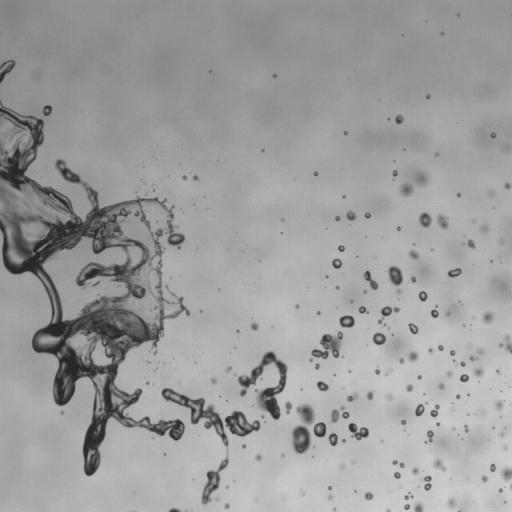droplet: (290, 403, 327, 454), (309, 331, 343, 361), (327, 405, 349, 423), (348, 422, 369, 440), (498, 334, 511, 354), (414, 170, 429, 187), (398, 182, 413, 197), (432, 457, 447, 472), (418, 211, 431, 228), (480, 310, 495, 324), (436, 213, 449, 229), (471, 366, 484, 382), (339, 315, 354, 328), (372, 332, 386, 345), (327, 431, 338, 446), (421, 475, 431, 491), (447, 267, 462, 277), (407, 350, 419, 362), (499, 425, 511, 437), (346, 391, 359, 402), (462, 239, 476, 249), (430, 403, 439, 418), (494, 399, 505, 411), (316, 381, 329, 391), (430, 304, 439, 318), (14, 104, 25, 115), (2, 119, 13, 130), (67, 161, 78, 172), (396, 173, 407, 184), (403, 173, 414, 184), (55, 181, 66, 192), (81, 201, 92, 212), (76, 208, 87, 219), (163, 243, 174, 254), (379, 274, 390, 285), (422, 299, 433, 310), (39, 315, 50, 326), (125, 347, 136, 358), (47, 354, 58, 365), (265, 362, 276, 373), (482, 367, 493, 378), (214, 368, 225, 379), (269, 369, 280, 380), (75, 376, 86, 387), (112, 376, 123, 387), (267, 376, 278, 387), (255, 378, 266, 389), (44, 381, 55, 392), (274, 392, 285, 403), (123, 405, 134, 416), (179, 408, 190, 419), (292, 415, 303, 426), (106, 416, 117, 427), (337, 418, 348, 429), (338, 427, 349, 438), (282, 433, 293, 444), (245, 445, 256, 456), (429, 467, 440, 478), (414, 490, 425, 501), (408, 322, 418, 334), (474, 407, 486, 417), (446, 496, 456, 508), (412, 501, 424, 511), (424, 430, 433, 443), (284, 400, 292, 414), (346, 210, 356, 221), (408, 250, 419, 260), (479, 223, 489, 233), (332, 258, 342, 268), (418, 290, 427, 301), (358, 305, 369, 314), (502, 390, 511, 401), (394, 114, 403, 124), (366, 390, 375, 400), (502, 143, 511, 152), (364, 491, 373, 500), (404, 491, 413, 500), (2, 99, 11, 108), (41, 125, 50, 134), (427, 177, 436, 186), (411, 183, 420, 192), (394, 191, 403, 200), (354, 210, 363, 219), (429, 218, 438, 227), (158, 235, 167, 244), (22, 269, 31, 278), (401, 271, 410, 280), (475, 308, 484, 317), (352, 311, 361, 320), (142, 339, 151, 348), (417, 348, 426, 357), (454, 352, 463, 361), (251, 357, 260, 366), (116, 363, 125, 372), (462, 365, 471, 374), (408, 376, 417, 385), (187, 390, 196, 399), (344, 401, 353, 410), (486, 403, 495, 412), (82, 417, 91, 426), (308, 433, 317, 442), (76, 434, 85, 443), (97, 442, 106, 451), (498, 478, 507, 487), (459, 374, 469, 382), (250, 321, 258, 330), (411, 466, 419, 475), (505, 431, 511, 442), (199, 505, 210, 511), (487, 189, 495, 197), (445, 370, 453, 378), (385, 392, 393, 400), (210, 376, 217, 385), (489, 463, 496, 472), (374, 365, 380, 375), (427, 347, 435, 354), (406, 384, 413, 392), (254, 453, 261, 461), (393, 471, 400, 479), (476, 348, 485, 354), (469, 355, 478, 361), (504, 182, 511, 189), (408, 276, 415, 283), (481, 475, 488, 482), (299, 489, 306, 496), (41, 115, 48, 122), (36, 144, 43, 151), (23, 169, 30, 176), (55, 172, 62, 179), (39, 180, 46, 187), (70, 181, 77, 188), (80, 189, 87, 196), (128, 193, 135, 200), (407, 193, 414, 200), (97, 201, 104, 208), (414, 209, 421, 216), (441, 209, 448, 216), (339, 212, 346, 219), (446, 218, 453, 225), (475, 219, 482, 226), (414, 221, 421, 228), (413, 245, 420, 252), (335, 251, 342, 258), (394, 261, 401, 268), (9, 272, 16, 279), (357, 272, 364, 279), (398, 281, 405, 288), (390, 283, 397, 290), (162, 291, 169, 298), (489, 319, 496, 326), (341, 326, 348, 333), (380, 327, 387, 334), (330, 330, 337, 337), (25, 342, 32, 349), (317, 344, 324, 351), (409, 344, 416, 351), (262, 346, 269, 353), (499, 346, 506, 353), (337, 347, 344, 354), (442, 347, 449, 354), (401, 352, 408, 359), (147, 353, 154, 360), (275, 353, 282, 360), (316, 356, 323, 363), (403, 357, 410, 364), (411, 359, 418, 366), (459, 367, 466, 374), (244, 369, 251, 376), (285, 369, 292, 376), (48, 373, 55, 380), (468, 374, 475, 381), (479, 374, 486, 381), (441, 376, 448, 383), (284, 377, 291, 384), (235, 383, 242, 390), (140, 384, 147, 391), (88, 386, 95, 393), (126, 387, 133, 394), (359, 391, 366, 398), (496, 393, 503, 400), (69, 395, 76, 402), (48, 398, 55, 405), (278, 405, 285, 412), (289, 407, 296, 414), (423, 407, 430, 414), (225, 409, 232, 416), (263, 410, 270, 417), (133, 414, 140, 421), (199, 416, 206, 423), (246, 416, 253, 423), (312, 416, 319, 423), (429, 416, 436, 423), (150, 417, 157, 424), (344, 417, 351, 424), (431, 425, 438, 432), (494, 425, 501, 432), (223, 426, 230, 433), (499, 437, 506, 444), (305, 446, 312, 453), (441, 459, 448, 466), (210, 464, 217, 471), (393, 464, 400, 471), (494, 466, 501, 473), (93, 469, 100, 476), (218, 469, 225, 476), (484, 469, 491, 476), (442, 470, 449, 477), (417, 471, 424, 478), (201, 476, 208, 483), (217, 480, 224, 487), (209, 490, 216, 497), (195, 492, 202, 499), (441, 495, 448, 502), (218, 498, 225, 505), (407, 498, 414, 505), (327, 500, 334, 507), (337, 245, 345, 251), (438, 382, 444, 390), (464, 424, 469, 433), (506, 459, 511, 468), (192, 174, 199, 180), (364, 212, 371, 218), (497, 238, 504, 244), (437, 344, 443, 351), (398, 357, 404, 364), (225, 366, 231, 373), (400, 418, 406, 425), (502, 444, 508, 451), (339, 462, 345, 469), (327, 494, 334, 500), (224, 502, 230, 509), (490, 132, 496, 138), (181, 174, 187, 180), (404, 504, 410, 510), (0, 200, 4, 209), (334, 216, 340, 221), (294, 304, 300, 309), (450, 350, 455, 356), (460, 361, 465, 367), (314, 363, 319, 369), (496, 369, 501, 375), (507, 443, 511, 450), (407, 507, 414, 511), (421, 507, 428, 511), (449, 507, 456, 511), (272, 73, 277, 78), (425, 94, 430, 99), (396, 226, 401, 231), (445, 311, 450, 316), (417, 374, 422, 379), (450, 407, 455, 412), (260, 414, 265, 419), (327, 485, 332, 490), (498, 487, 503, 492), (214, 496, 219, 501), (10, 67, 15, 72), (4, 72, 9, 77), (420, 93, 425, 98), (44, 100, 49, 105), (50, 103, 55, 108), (38, 105, 43, 110), (50, 108, 55, 113), (390, 117, 395, 122), (400, 120, 405, 125), (397, 122, 402, 127), (57, 154, 62, 159), (50, 160, 55, 165), (396, 169, 401, 174), (197, 173, 202, 178), (187, 174, 192, 179), (79, 175, 84, 180), (499, 183, 504, 188), (91, 185, 96, 190), (502, 187, 507, 192), (460, 191, 465, 196), (149, 193, 154, 198), (121, 196, 126, 201), (157, 196, 162, 201), (113, 198, 118, 203), (165, 202, 170, 207), (364, 207, 369, 212), (171, 208, 176, 213), (170, 219, 175, 224), (349, 219, 354, 224), (487, 223, 492, 228), (173, 228, 178, 233), (463, 237, 468, 242), (473, 240, 478, 245), (179, 241, 184, 246), (463, 243, 468, 248), (172, 244, 177, 249), (410, 245, 415, 250), (160, 253, 165, 258), (409, 257, 414, 262), (450, 264, 455, 269), (329, 265, 334, 270), (384, 265, 389, 270), (159, 266, 164, 271), (360, 268, 365, 273), (369, 273, 374, 278), (160, 274, 165, 279), (450, 276, 455, 281), (364, 280, 369, 285), (409, 281, 414, 286), (160, 285, 165, 290), (169, 286, 174, 291), (41, 289, 46, 294), (43, 293, 48, 298), (397, 293, 402, 298), (44, 296, 49, 301), (172, 297, 177, 302), (45, 300, 50, 305), (181, 300, 186, 305), (380, 302, 385, 307), (389, 303, 394, 308), (46, 305, 51, 310), (180, 310, 185, 315), (344, 310, 349, 315), (390, 310, 395, 315), (397, 310, 402, 315), (340, 311, 345, 316), (377, 312, 382, 317), (383, 315, 388, 320), (434, 316, 439, 321), (162, 318, 167, 323), (248, 318, 253, 323), (253, 318, 258, 323), (353, 318, 358, 323), (335, 321, 340, 326), (257, 324, 262, 329), (404, 325, 409, 330), (247, 326, 252, 331), (30, 329, 35, 334), (322, 329, 327, 334), (370, 329, 375, 334), (368, 332, 373, 337), (317, 334, 322, 339), (27, 336, 32, 341), (340, 337, 345, 342), (384, 337, 389, 342), (156, 340, 161, 345), (370, 341, 375, 346), (373, 343, 378, 348), (378, 343, 383, 348), (432, 345, 437, 350), (28, 346, 33, 351), (472, 351, 477, 356), (453, 353, 458, 358), (477, 353, 482, 358), (448, 354, 453, 359), (455, 358, 460, 363), (464, 358, 469, 363), (394, 359, 399, 364), (157, 362, 162, 367), (150, 363, 155, 368), (442, 367, 447, 372), (229, 368, 234, 373), (208, 372, 213, 377), (387, 372, 392, 377), (216, 377, 221, 382), (205, 378, 210, 383), (322, 378, 327, 383), (165, 383, 170, 388), (212, 383, 217, 388), (443, 383, 448, 388), (283, 384, 288, 389), (401, 384, 406, 389), (313, 385, 318, 390), (172, 386, 177, 391), (367, 386, 372, 391), (411, 386, 416, 391), (434, 386, 439, 391), (73, 388, 78, 393), (177, 389, 182, 394), (317, 389, 322, 394), (156, 390, 161, 395), (320, 390, 325, 395), (346, 390, 351, 395), (408, 390, 413, 395), (372, 392, 377, 397), (392, 392, 397, 397), (459, 392, 464, 397), (71, 393, 76, 398), (157, 393, 162, 398), (138, 394, 143, 399), (221, 394, 226, 399), (451, 396, 456, 401), (160, 397, 165, 402), (351, 398, 356, 403), (167, 399, 172, 404), (502, 401, 507, 406), (88, 402, 93, 407), (59, 404, 64, 409), (334, 404, 339, 409), (411, 405, 416, 410), (235, 406, 240, 411), (185, 407, 190, 412), (213, 407, 218, 412), (337, 409, 342, 414), (496, 410, 501, 415), (170, 415, 175, 420), (434, 415, 439, 420), (163, 416, 168, 421), (258, 418, 263, 423), (259, 422, 264, 427), (343, 424, 348, 429), (209, 425, 214, 430), (459, 425, 464, 430), (128, 426, 133, 431), (164, 429, 169, 434), (250, 429, 255, 434), (150, 430, 155, 435), (347, 430, 352, 435), (367, 430, 372, 435), (451, 430, 456, 435), (324, 431, 329, 436), (180, 434, 185, 439), (431, 434, 436, 439), (216, 435, 221, 440), (423, 435, 428, 440), (360, 436, 365, 441), (168, 437, 173, 442), (336, 437, 341, 442), (176, 438, 181, 443), (254, 449, 259, 454), (260, 455, 265, 460), (79, 456, 84, 461), (253, 459, 258, 464), (485, 464, 490, 469), (389, 470, 394, 475), (423, 471, 428, 476), (477, 478, 482, 483), (369, 488, 374, 493), (360, 490, 365, 495), (372, 493, 377, 498), (332, 495, 337, 500), (363, 498, 368, 503), (368, 498, 373, 503), (206, 501, 211, 506), (171, 503, 176, 508), (383, 504, 388, 509), (436, 421, 440, 427), (332, 507, 338, 511), (0, 232, 3, 239), (0, 240, 3, 247), (0, 255, 3, 262), (434, 152, 439, 156), (456, 193, 461, 197), (363, 289, 367, 294), (270, 324, 274, 329), (467, 342, 472, 346), (145, 360, 150, 364), (456, 394, 460, 399), (341, 438, 346, 442), (280, 453, 285, 457), (351, 459, 355, 464), (242, 443, 245, 449), (385, 508, 391, 511), (440, 31, 444, 35), (313, 171, 317, 175), (342, 194, 346, 198), (471, 219, 475, 223), (335, 285, 339, 289), (349, 299, 353, 303), (316, 311, 320, 315), (145, 381, 149, 385), (60, 410, 64, 414), (452, 427, 456, 431), (151, 435, 155, 439), (225, 485, 229, 489), (398, 485, 402, 489), (344, 130, 347, 135), (151, 183, 156, 186), (198, 309, 203, 312), (236, 329, 239, 334), (162, 362, 165, 367), (508, 140, 511, 145), (508, 179, 511, 184), (508, 186, 511, 191), (224, 508, 229, 511), (328, 508, 333, 511), (456, 13, 460, 16), (387, 117, 390, 121), (280, 218, 284, 221), (325, 275, 329, 278), (472, 315, 475, 319), (387, 326, 390, 330), (491, 426, 495, 429), (380, 439, 383, 443), (353, 489, 356, 493), (0, 249, 2, 254), (261, 149, 264, 152), (134, 191, 137, 194), (462, 234, 465, 237), (412, 242, 415, 245), (430, 248, 433, 251), (233, 346, 236, 349), (348, 370, 351, 373), (342, 386, 345, 389), (466, 393, 469, 396), (451, 401, 454, 404), (403, 428, 406, 431), (163, 452, 166, 455), (254, 498, 257, 501), (440, 28, 443, 31), (436, 31, 439, 34), (438, 34, 441, 37), (441, 34, 444, 37), (9, 56, 12, 59), (206, 67, 209, 70), (210, 71, 213, 74), (275, 71, 278, 74), (269, 73, 272, 76), (273, 77, 276, 80), (427, 98, 430, 101), (384, 116, 387, 119), (343, 127, 346, 130), (493, 129, 496, 132), (340, 131, 343, 134), (343, 134, 346, 137), (495, 134, 498, 137), (491, 137, 494, 140), (261, 145, 264, 148), (405, 147, 408, 150), (257, 148, 260, 151), (264, 148, 267, 151), (402, 150, 405, 153), (261, 151, 264, 154), (431, 152, 434, 155), (392, 156, 395, 159), (393, 166, 396, 169), (310, 171, 313, 174), (317, 171, 320, 174), (180, 172, 183, 175), (389, 172, 392, 175), (313, 175, 316, 178), (394, 175, 397, 178), (141, 178, 144, 181), (180, 178, 183, 181), (183, 179, 186, 182), (195, 179, 198, 182), (152, 185, 155, 188), (457, 189, 460, 192), (339, 193, 342, 196), (139, 195, 142, 198), (144, 195, 147, 198), (344, 196, 347, 199), (457, 196, 460, 199), (340, 197, 343, 200), (190, 200, 193, 203), (369, 211, 372, 214), (332, 214, 335, 217), (361, 214, 364, 217), (365, 217, 368, 220), (335, 220, 338, 223), (399, 224, 402, 227), (393, 225, 396, 228), (400, 227, 403, 230), (279, 228, 282, 231), (394, 229, 397, 232), (282, 231, 285, 234), (277, 232, 280, 235), (412, 239, 415, 242), (409, 241, 412, 244), (337, 242, 340, 245), (343, 244, 346, 247), (343, 248, 346, 251), (336, 249, 339, 252), (356, 252, 359, 255), (331, 256, 334, 259), (353, 256, 356, 259), (489, 256, 492, 259), (492, 259, 495, 262), (160, 260, 163, 263), (489, 262, 492, 265), (340, 264, 343, 267), (336, 267, 339, 270), (460, 267, 463, 270), (412, 273, 415, 276), (458, 273, 461, 276), (322, 275, 325, 278), (455, 275, 458, 278), (326, 277, 329, 280), (415, 278, 418, 281), (336, 282, 339, 285), (167, 284, 170, 287), (332, 284, 335, 287), (334, 288, 337, 291), (337, 288, 340, 291), (423, 288, 426, 291), (360, 290, 363, 293), (425, 291, 428, 294), (177, 294, 180, 297), (350, 296, 353, 299), (425, 297, 428, 300), (417, 298, 420, 301), (460, 300, 463, 303), (296, 301, 299, 304), (457, 302, 460, 305), (298, 306, 301, 309), (432, 306, 435, 309), (201, 307, 204, 310), (295, 308, 298, 311), (315, 308, 318, 311), (319, 308, 322, 311), (188, 309, 191, 312), (200, 311, 203, 314), (319, 312, 322, 315), (316, 314, 319, 317), (429, 315, 432, 318), (447, 315, 450, 318), (374, 320, 377, 323), (412, 321, 415, 324), (465, 323, 468, 326), (234, 326, 237, 329), (461, 326, 464, 329), (238, 328, 241, 331), (407, 329, 410, 332), (417, 329, 420, 332), (233, 330, 236, 333), (238, 331, 241, 334), (393, 332, 396, 335), (412, 333, 415, 336), (440, 342, 443, 345), (495, 342, 498, 345), (152, 346, 155, 349), (425, 346, 428, 349), (449, 347, 452, 350), (155, 352, 158, 355), (447, 352, 450, 355), (334, 357, 337, 360), (147, 358, 150, 361), (195, 358, 198, 361), (159, 359, 162, 362), (191, 359, 194, 362), (155, 362, 158, 365), (457, 362, 460, 365), (147, 363, 150, 366), (194, 363, 197, 366), (226, 363, 229, 366), (318, 365, 321, 368), (373, 366, 376, 369), (377, 366, 380, 369), (156, 368, 159, 371), (350, 368, 353, 371), (498, 368, 501, 371), (344, 369, 347, 372), (492, 369, 495, 372), (372, 371, 375, 374), (348, 372, 351, 375), (378, 372, 381, 375), (419, 372, 422, 375), (335, 373, 338, 376), (457, 374, 460, 377), (384, 375, 387, 378), (414, 375, 417, 378), (420, 377, 423, 380), (467, 378, 470, 381), (143, 379, 146, 382), (462, 381, 465, 384), (148, 382, 151, 385), (299, 384, 302, 387), (505, 384, 508, 387), (499, 386, 502, 389), (302, 387, 305, 390), (422, 389, 425, 392), (300, 390, 303, 393), (425, 392, 428, 395), (453, 393, 456, 396), (469, 393, 472, 396), (465, 395, 468, 398), (458, 397, 461, 400), (368, 399, 371, 402), (436, 401, 439, 404), (421, 402, 424, 405), (449, 403, 452, 406), (469, 412, 472, 415), (466, 415, 469, 418), (401, 416, 404, 419), (397, 420, 400, 423), (405, 420, 408, 423), (439, 422, 442, 425), (399, 423, 402, 426), (403, 423, 406, 426), (452, 423, 455, 426), (364, 424, 367, 427), (466, 425, 469, 428), (488, 426, 491, 429), (424, 429, 427, 432), (467, 430, 470, 433), (334, 431, 337, 434), (403, 431, 406, 434), (432, 431, 435, 434), (352, 436, 355, 439), (382, 441, 385, 444), (421, 441, 424, 444), (245, 444, 248, 447), (278, 451, 281, 454), (165, 452, 168, 455), (160, 453, 163, 456), (222, 456, 225, 459), (282, 456, 285, 459), (389, 462, 392, 465), (399, 475, 402, 478), (430, 475, 433, 478), (392, 476, 395, 479), (228, 485, 231, 488), (331, 485, 334, 488), (324, 486, 327, 489), (421, 487, 424, 490), (502, 487, 505, 490), (428, 488, 431, 491), (495, 488, 498, 491), (327, 489, 330, 492), (424, 489, 427, 492), (298, 491, 301, 494), (404, 491, 407, 494), (410, 491, 413, 494), (499, 491, 502, 494), (353, 492, 356, 495), (303, 495, 306, 498), (401, 496, 404, 499), (500, 500, 503, 503), (506, 500, 509, 503), (503, 503, 506, 506), (335, 506, 338, 509), (457, 507, 460, 510), (209, 69, 211, 72), (402, 148, 405, 150), (203, 195, 205, 198), (492, 207, 495, 209), (490, 260, 493, 262), (462, 324, 465, 326), (391, 333, 393, 336), (341, 355, 343, 358), (194, 361, 197, 363), (333, 373, 335, 376), (423, 392, 425, 395), (192, 478, 195, 480), (417, 486, 420, 488), (504, 500, 506, 503), (509, 184, 511, 187), (509, 383, 511, 386), (509, 387, 511, 390), (405, 509, 408, 511), (401, 34, 403, 36), (393, 160, 395, 162), (193, 203, 195, 205), (280, 232, 282, 234), (364, 235, 366, 237), (356, 255, 358, 257), (258, 260, 260, 262), (500, 261, 502, 263), (218, 288, 220, 290), (397, 298, 399, 300), (458, 300, 460, 302), (172, 357, 174, 359), (152, 383, 154, 385), (300, 388, 302, 390), (219, 395, 221, 397), (226, 399, 228, 401), (467, 413, 469, 415), (499, 416, 501, 418), (264, 420, 266, 422), (457, 433, 459, 435), (461, 438, 463, 440), (233, 480, 235, 482), (0, 61, 1, 64), (461, 304, 463, 305), (500, 390, 502, 391)
ligament: (385, 265, 403, 295), (378, 306, 400, 324), (0, 60, 15, 84), (362, 270, 378, 290), (499, 465, 511, 490), (415, 401, 428, 417), (392, 460, 404, 468), (384, 368, 392, 375), (392, 170, 397, 181), (168, 507, 181, 511), (140, 178, 146, 184), (452, 359, 457, 366), (184, 508, 193, 511), (380, 323, 386, 327), (154, 366, 158, 372), (144, 190, 148, 195), (155, 220, 161, 223), (153, 188, 155, 191), (457, 510, 463, 511)
